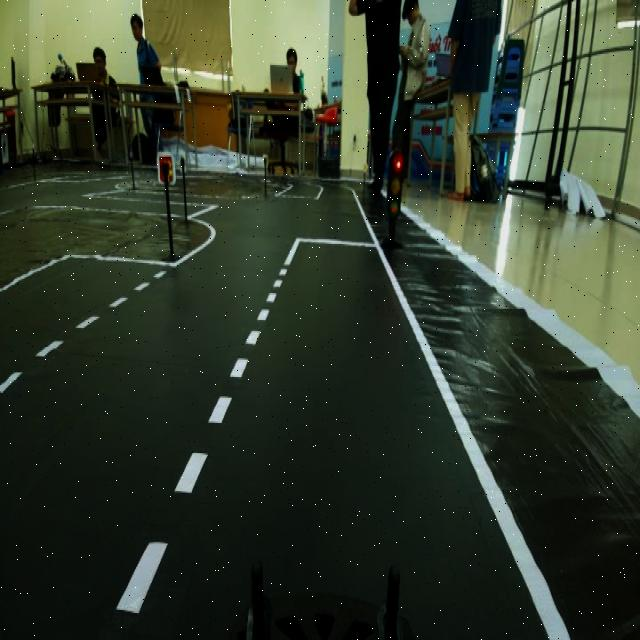trafficlight: (378, 144, 410, 268)
